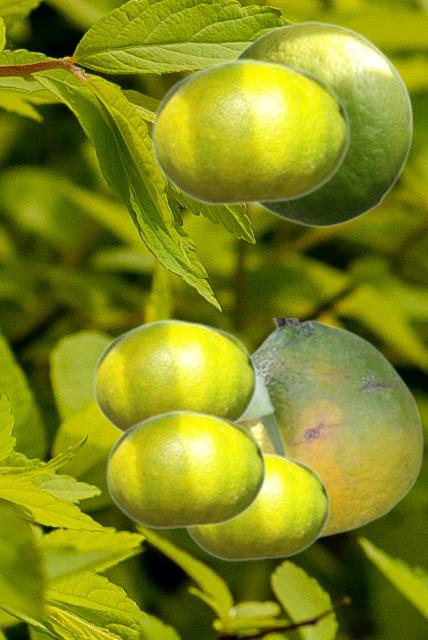dalandan: (239, 318, 423, 538), (234, 20, 412, 227), (150, 57, 349, 206), (105, 409, 265, 529), (92, 318, 256, 433), (184, 451, 329, 561)
